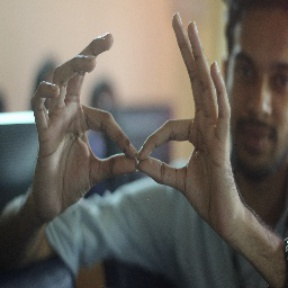B: (71, 82, 205, 197)
